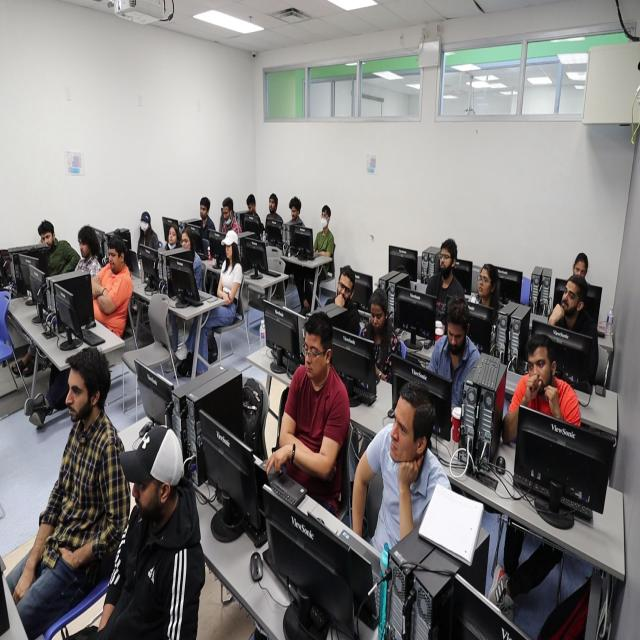Attentive: (390, 395, 416, 464), (65, 367, 89, 423), (132, 475, 158, 515), (529, 346, 550, 391), (562, 279, 579, 313), (338, 270, 352, 305), (439, 245, 452, 277), (477, 268, 491, 296), (108, 246, 122, 272), (573, 257, 587, 280), (78, 235, 90, 259), (40, 231, 54, 250), (181, 231, 192, 248), (224, 242, 234, 259), (168, 227, 177, 244), (200, 203, 207, 222)
Distracted: (303, 335, 325, 380), (448, 318, 467, 358), (371, 302, 383, 334), (221, 204, 234, 225)
